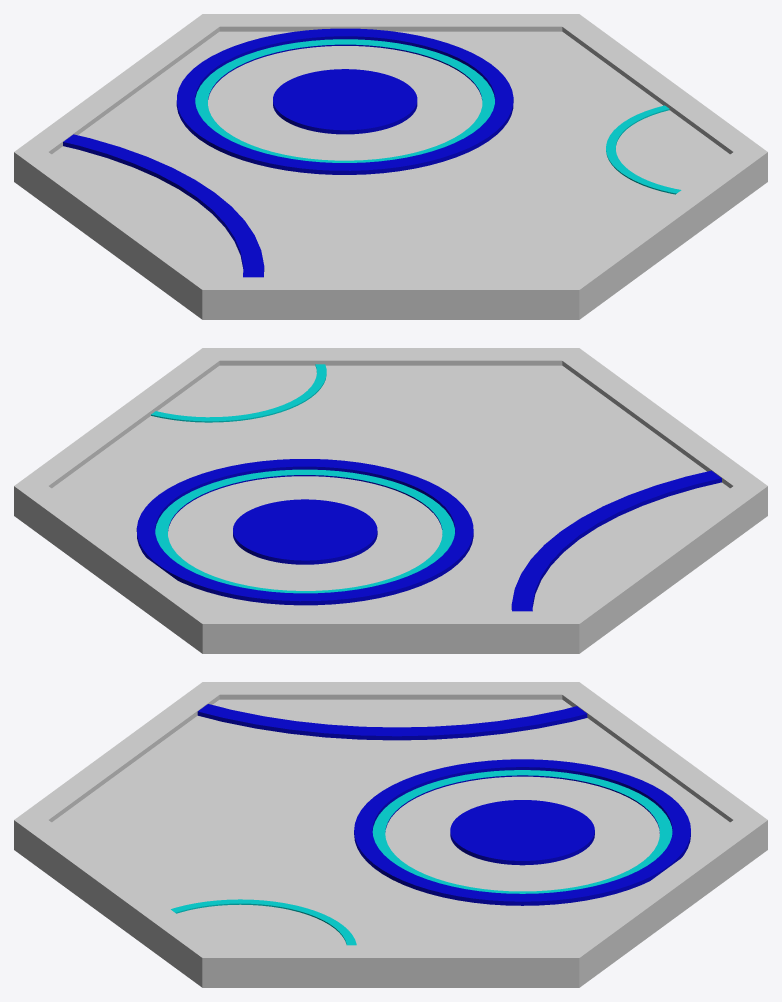
The model's file is placas_civi2.fbx.
3 renders of one model, top to bottom at view 1: azimuth 30°, elevation 25°; view 2: azimuth 150°, elevation 25°; view 3: azimuth 270°, elevation 25°, orthographic.
Parts seen in each view (by area): view 1: placa_base_low, placa2_low; view 2: placa_base_low, placa2_low; view 3: placa_base_low, placa2_low.
Boxes of the visible parts, left/top/right/bottom form: placa_base_low: left=14, top=14, right=767, bottom=319; placa2_low: left=63, top=28, right=681, bottom=277; placa_base_low: left=14, top=348, right=767, bottom=653; placa2_low: left=136, top=364, right=721, bottom=611; placa_base_low: left=14, top=682, right=767, bottom=987; placa2_low: left=171, top=704, right=690, bottom=945.
Bounding box in the file's own units: 346 × 17.47 × 400.
